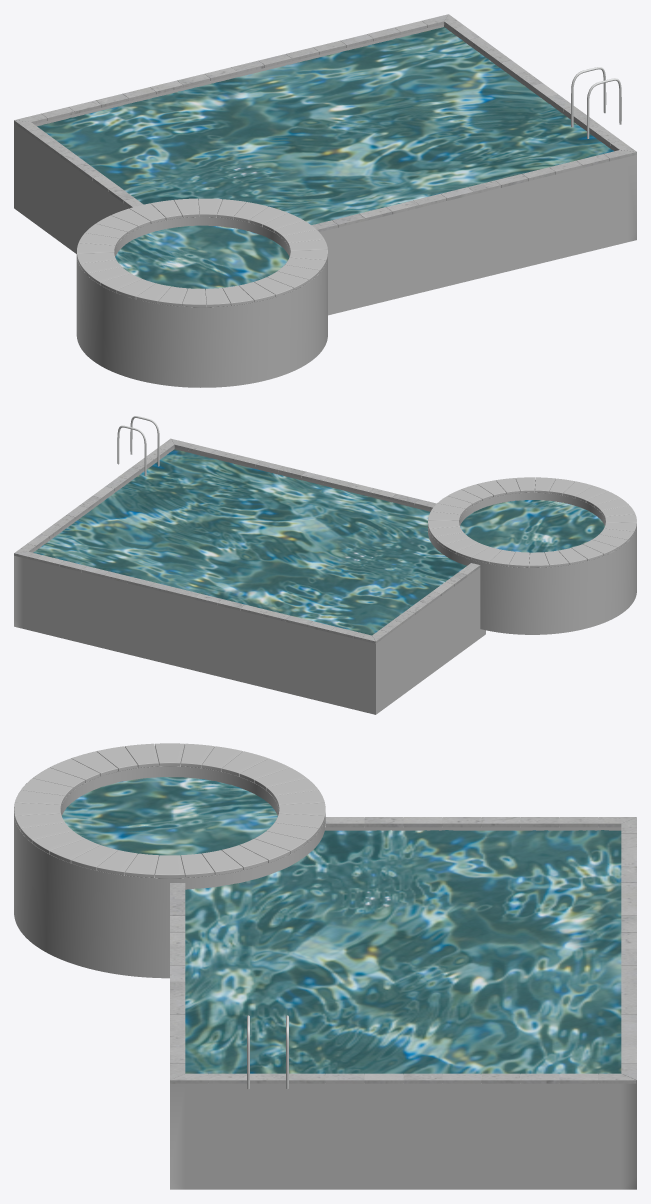
3 views of the same model, one above another, from view 1: azimuth 30°, elevation 25°; view 2: azimuth 150°, elevation 25°; view 3: azimuth 270°, elevation 25° (orthographic). The views are drawn at different scales.
Parts seen in each view (by area): view 1: SPA_Exterior_Swimming_Pool.Shape_SPA_Exterior_Swimming_Pool_ (×5); view 2: SPA_Exterior_Swimming_Pool.Shape_SPA_Exterior_Swimming_Pool_ (×5); view 3: SPA_Exterior_Swimming_Pool.Shape_SPA_Exterior_Swimming_Pool_ (×4).
Part boxes in pixels (bbox=[...]): SPA_Exterior_Swimming_Pool.Shape_SPA_Exterior_Swimming_Pool_ (×5): bbox=[14, 14, 636, 387]; SPA_Exterior_Swimming_Pool.Shape_SPA_Exterior_Swimming_Pool_ (×5): bbox=[14, 416, 636, 714]; SPA_Exterior_Swimming_Pool.Shape_SPA_Exterior_Swimming_Pool_ (×4): bbox=[14, 743, 636, 1189].
Bounding box in the file's own units: 10.3 × 2.4 × 8.
